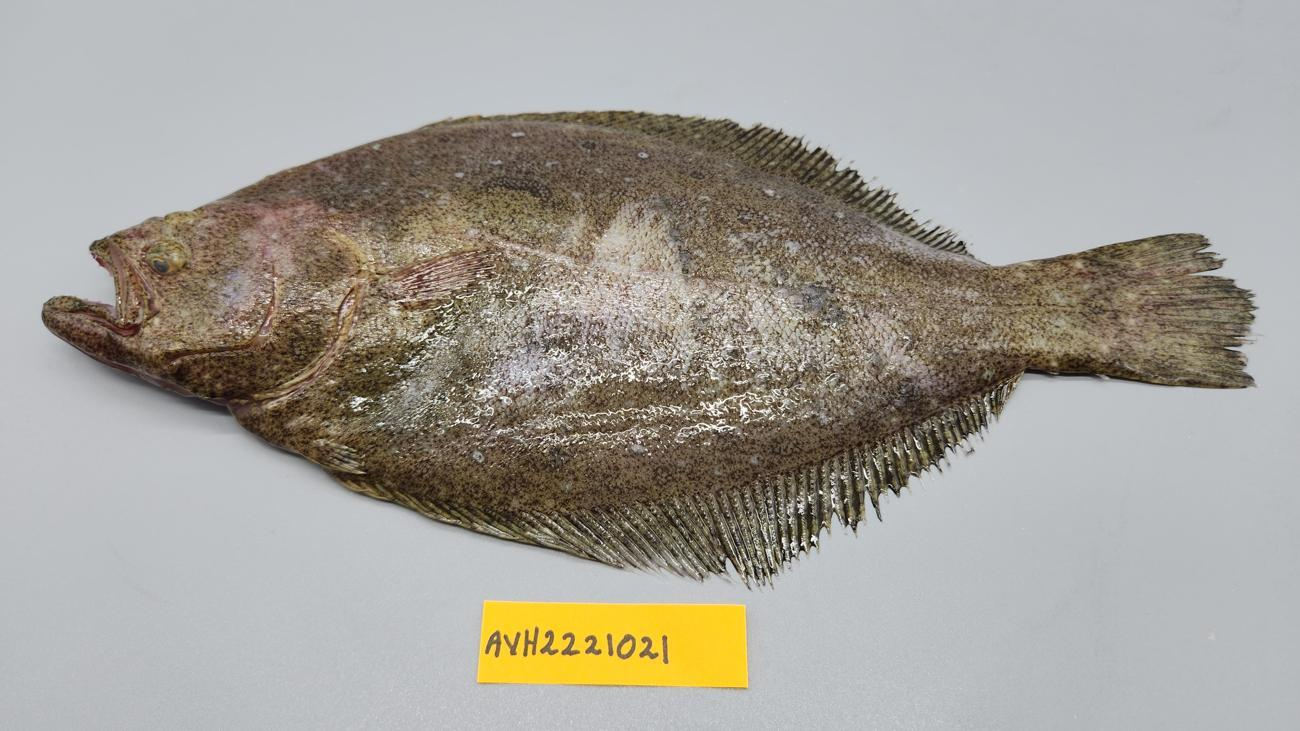VIDYH: (268, 122, 674, 192), (206, 204, 339, 323), (252, 339, 364, 436), (382, 250, 491, 314), (1039, 254, 1111, 287)
VIFCH: (1094, 246, 1254, 350)
VIOUY: (42, 110, 1258, 588)
